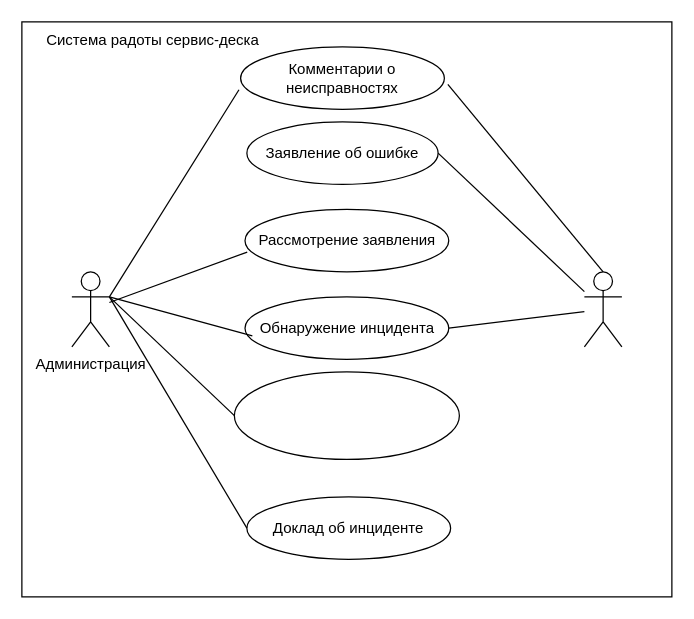
The diagram is 694 pixels wide and 619 high, and some of its shapes have lost their labels. Each missing label, with the centre of its shape:
"Занесение инцидента в базу знаний" belongs at (346,415).
"Пользователь" belongs at (602,309).
